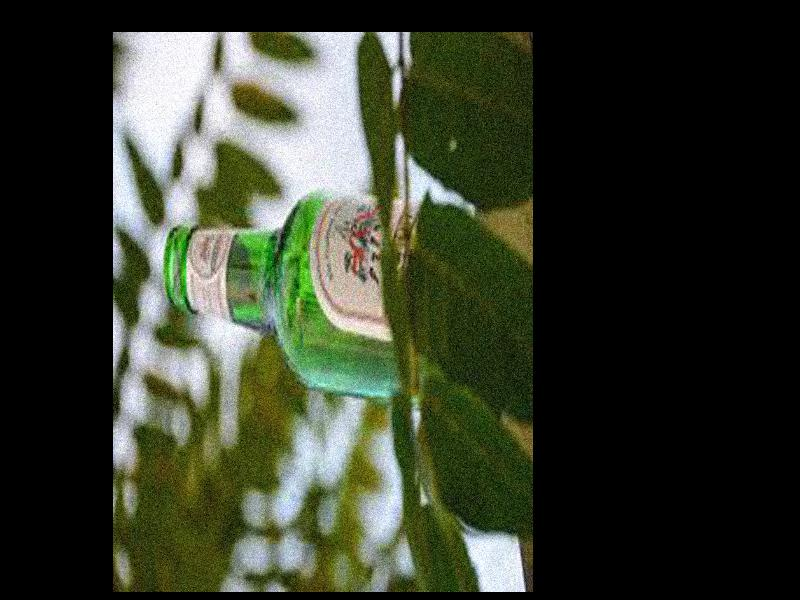Beer: (163, 193, 424, 395)
